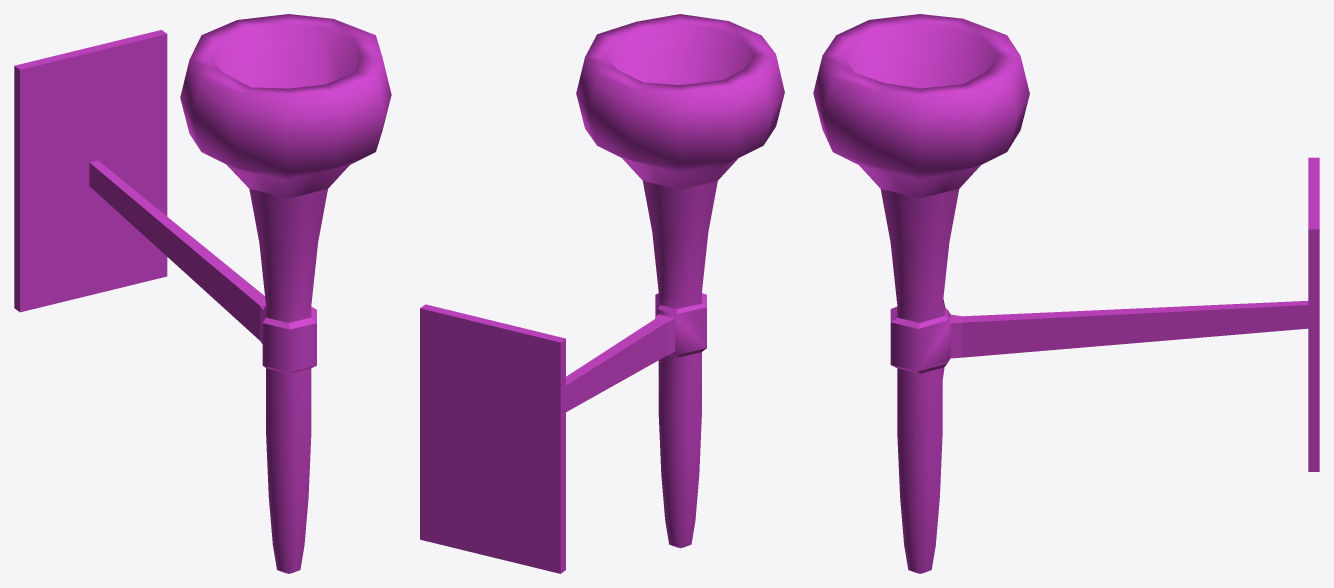
Rendered from Wall_Torch.fbx.
The picture shows the model from 3 angles, left to right: view 1: azimuth 30°, elevation 25°; view 2: azimuth 150°, elevation 25°; view 3: azimuth 270°, elevation 25°; orthographic projection. The views are drawn at different scales.
Visible parts, largest first — view 1: Wall Torch; view 2: Wall Torch; view 3: Wall Torch.
Part boxes in pixels (box(x1,y1,x2,y2)): Wall Torch: box(14, 14, 391, 573); Wall Torch: box(420, 14, 784, 573); Wall Torch: box(813, 14, 1319, 573).
Bounding box in the file's own units: 3.31 × 8.45 × 7.52.
